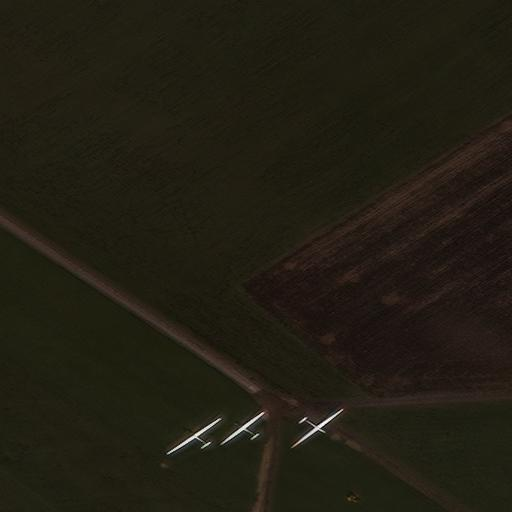Medium Civil Transport: (290, 408, 345, 449), (164, 417, 219, 453)
Small Civil Transport: (219, 411, 263, 443)
